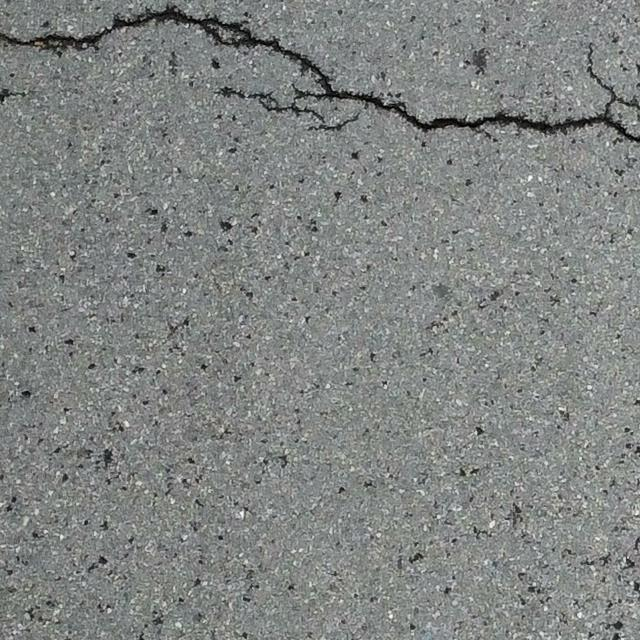TransverseCrack: (2, 5, 640, 143)
